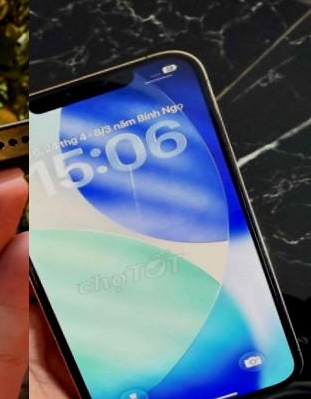scratch: (20, 118, 29, 142), (0, 118, 6, 145)
